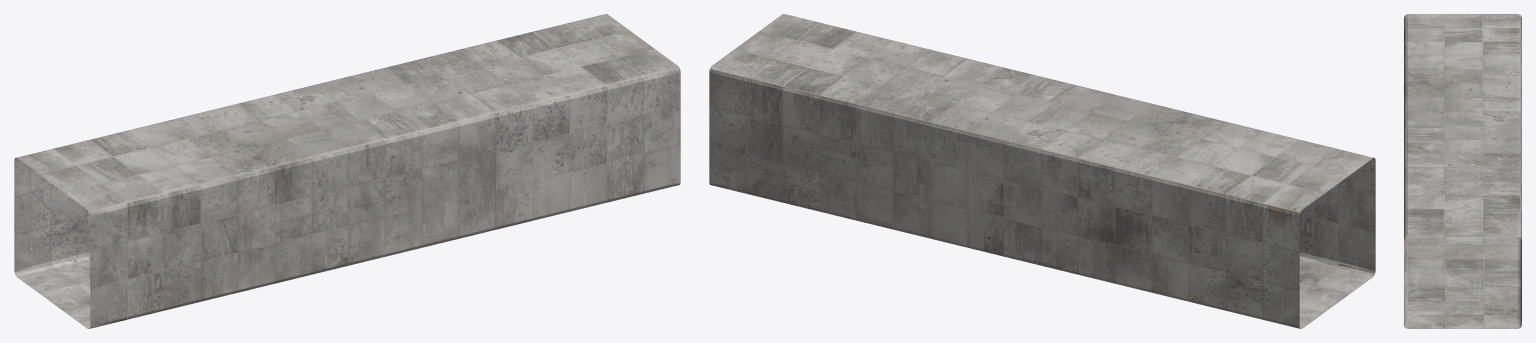
Rendered from SM_Ceiling_Pillar_200u.glb.
3 renders of one model, left to right at view 1: azimuth 30°, elevation 25°; view 2: azimuth 150°, elevation 25°; view 3: azimuth 270°, elevation 25°, orthographic. The views are drawn at different scales.
Visible parts, largest first — view 1: SM_Ceiling_Pillar_200u; view 2: SM_Ceiling_Pillar_200u; view 3: SM_Ceiling_Pillar_200u.
Boxes of the visible parts, bbox=[...] form: SM_Ceiling_Pillar_200u: bbox=[14, 14, 680, 328]; SM_Ceiling_Pillar_200u: bbox=[709, 14, 1375, 328]; SM_Ceiling_Pillar_200u: bbox=[1404, 14, 1521, 328].
Size of the model in its own units: 2.6 by 0.5 by 0.58.
Materials: 1 (1 with a texture image).
